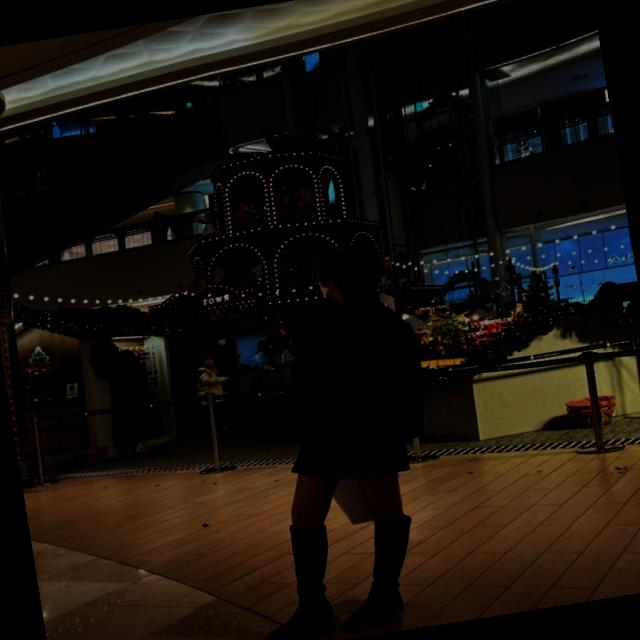padding: (264, 286, 432, 458)
skirt: (292, 420, 422, 492)
